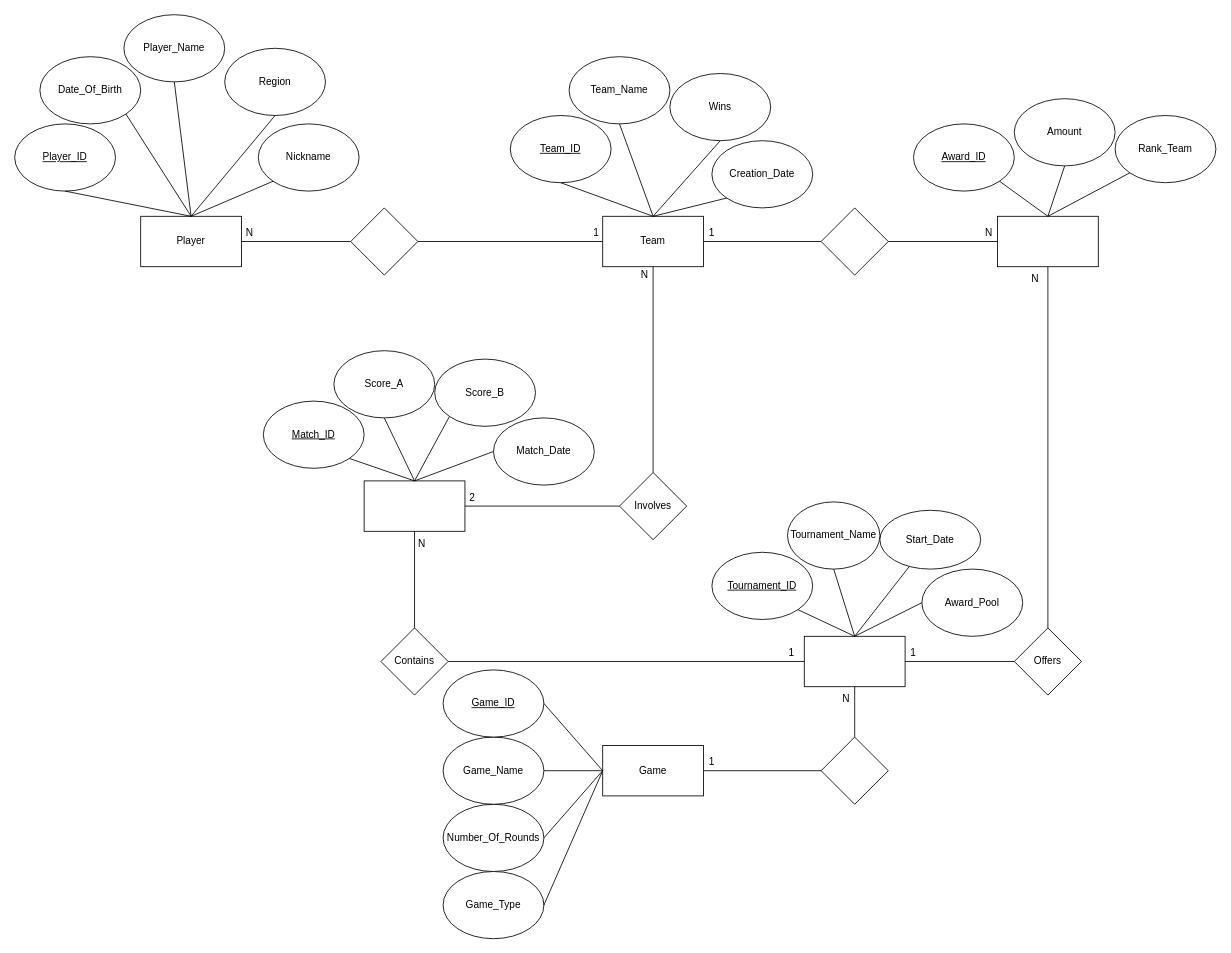
The diagram is 1231 pixels wide and 953 high, and some of its shapes have lost their labels. Here are the shapes that lost their labels. From the top down, the box of each, then its label:
(350, 207, 418, 275): Belongs_To
(820, 207, 888, 275): Awarded To
(997, 215, 1098, 267): Awards
(363, 480, 465, 531): Match
(803, 635, 905, 687): Tournament
(820, 736, 888, 804): Relies On
